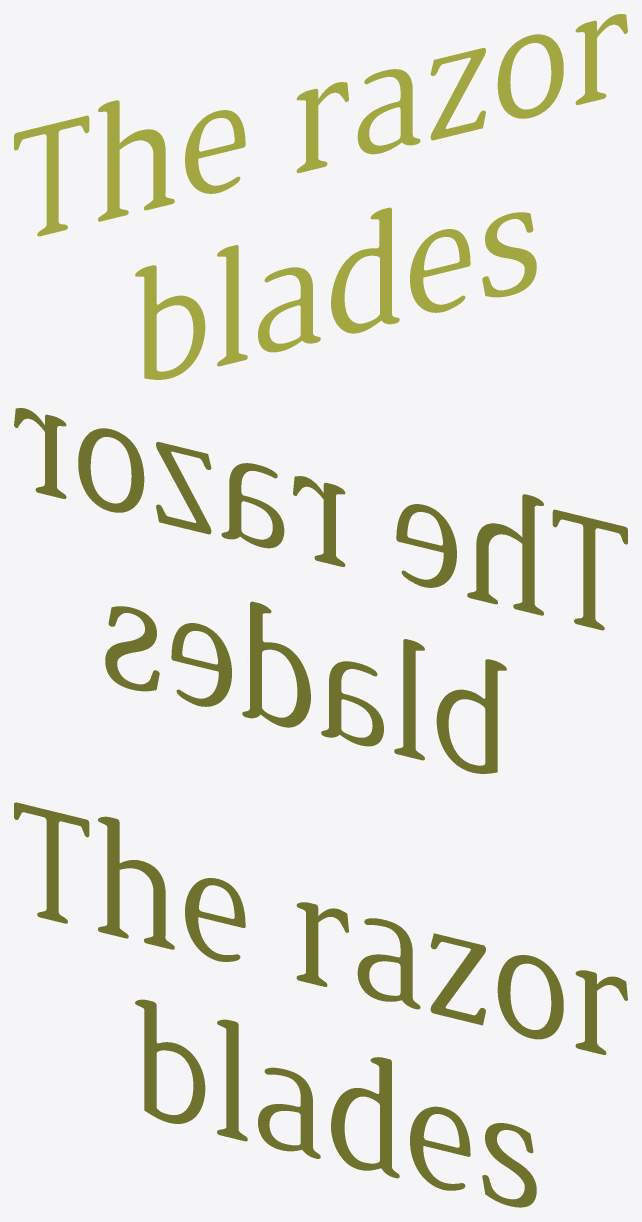
Rendered from TheRazozBladesText.fbx.
3 views of the same model, one above another, from view 1: azimuth 30°, elevation 25°; view 2: azimuth 150°, elevation 25°; view 3: azimuth 330°, elevation 25° (orthographic).
Visible parts, largest first — view 1: TheRazorBladesText; view 2: TheRazorBladesText; view 3: TheRazorBladesText.
Part boxes in pixels (x1=…): TheRazorBladesText: x1=14, y1=14, x2=627, y2=379; TheRazorBladesText: x1=14, y1=408, x2=627, y2=773; TheRazorBladesText: x1=14, y1=802, x2=627, y2=1207.
Bounding box in the file's own units: 370 × 168 × 2e-05.
